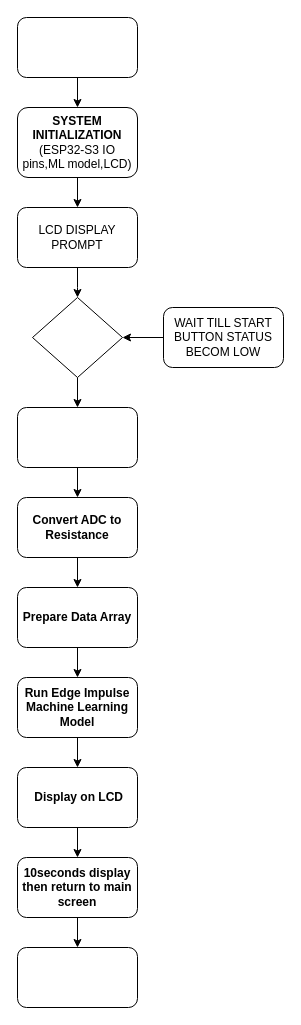
This 301x1025 diagram has some shape labels left out. The centre of each missing label's shape, as x and y in pixels:
"Read 3 Analog Values" goes at point (77, 437).
"Repeat Loop" goes at point (77, 977).
"START" goes at point (77, 47).
"START BUTTON LOW?" goes at point (77, 337).
